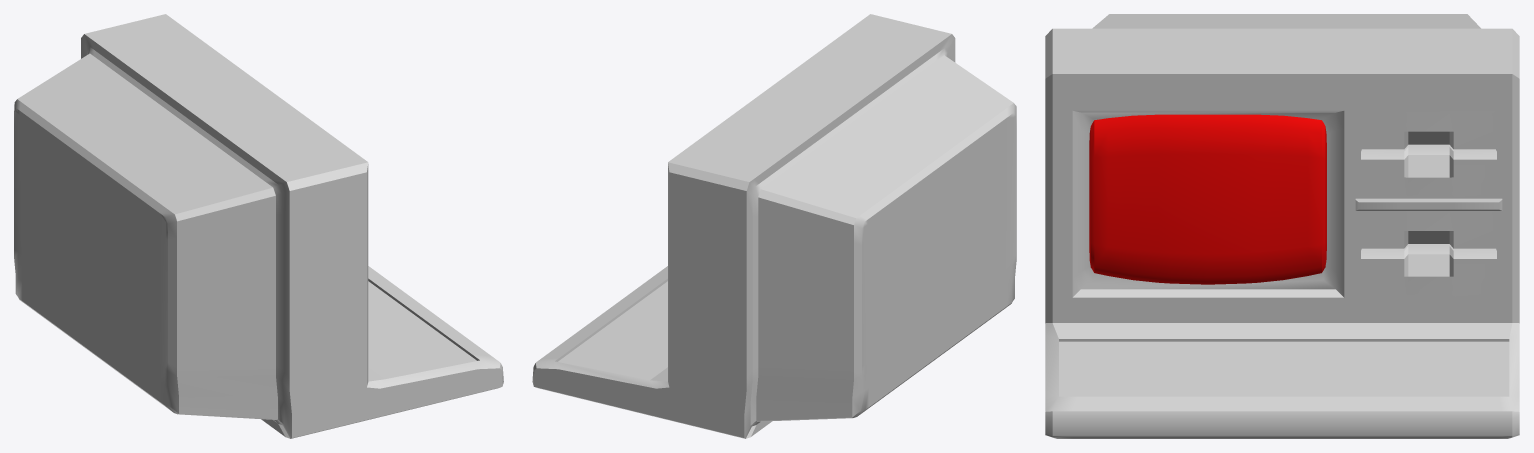
Rendered from ComputerTerminalUV.fbx.
3 views of the same model, side by side, from view 1: azimuth 30°, elevation 25°; view 2: azimuth 150°, elevation 25°; view 3: azimuth 270°, elevation 25° (orthographic). The views are drawn at different scales.
Visible parts, largest first — view 1: Terminal Low-Poly; view 2: Terminal Low-Poly; view 3: Terminal Low-Poly.
Part boxes in pixels (x1,y1,x2,y2): Terminal Low-Poly: (14,14,503,438); Terminal Low-Poly: (532,14,1016,438); Terminal Low-Poly: (1045,14,1519,438).
Bounding box in the file's own units: 42.64 × 33.91 × 50.
